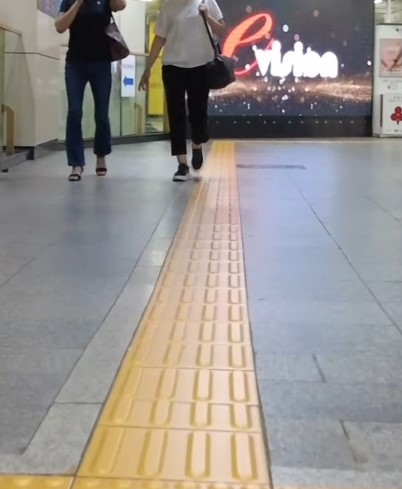guideBlock: (116, 373, 238, 478), (149, 296, 247, 375), (172, 240, 243, 308), (186, 206, 242, 264)
